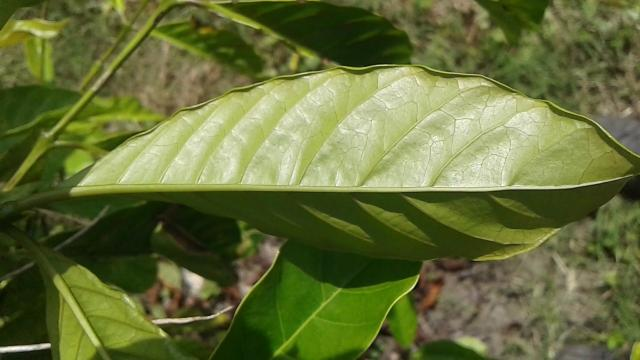healthy: (54, 62, 640, 267)
